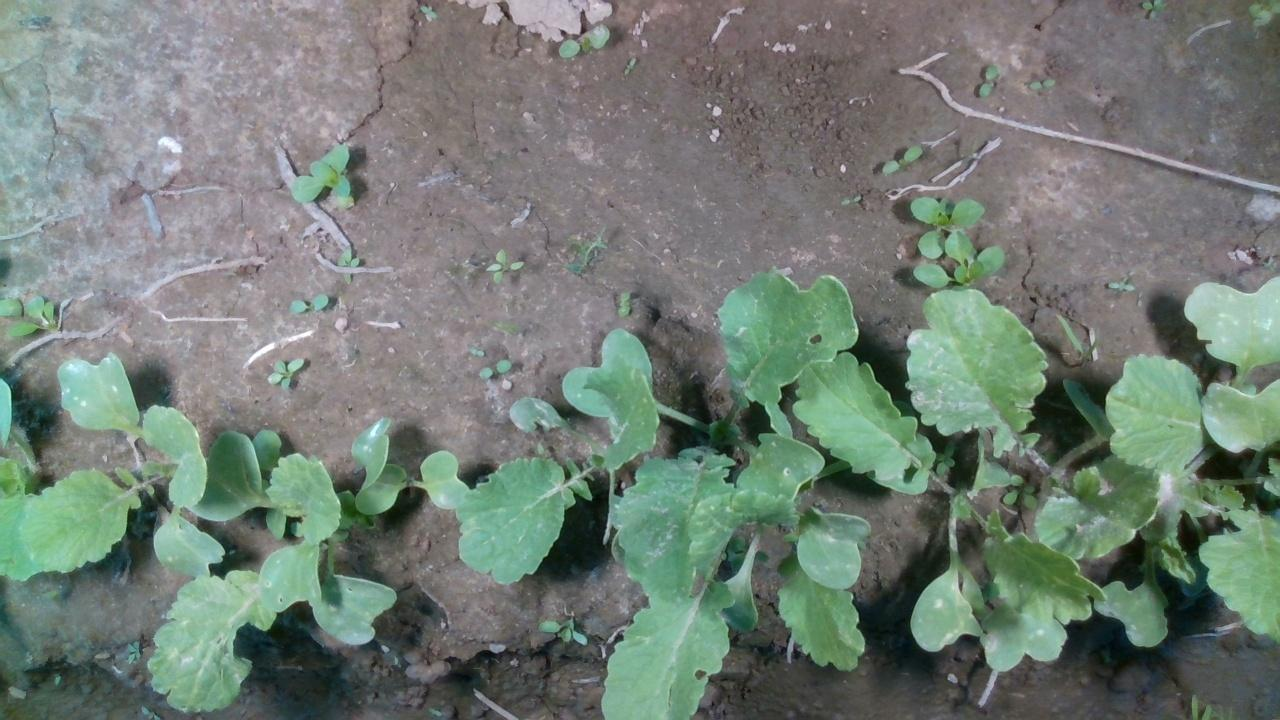weed: (266, 355, 308, 390), (970, 59, 1001, 104), (484, 243, 517, 283), (878, 146, 913, 174), (285, 292, 335, 311), (479, 359, 513, 379), (609, 286, 630, 318), (844, 189, 860, 207)
